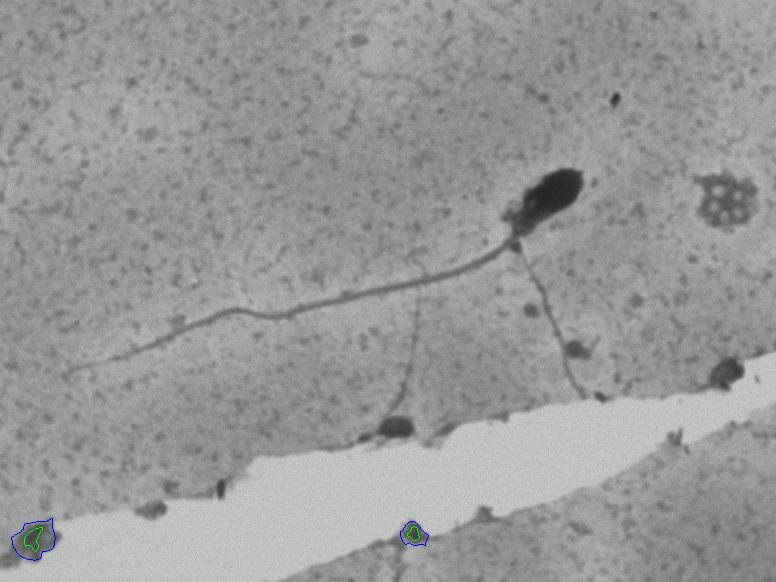Abnormal: (65, 128, 595, 413)
